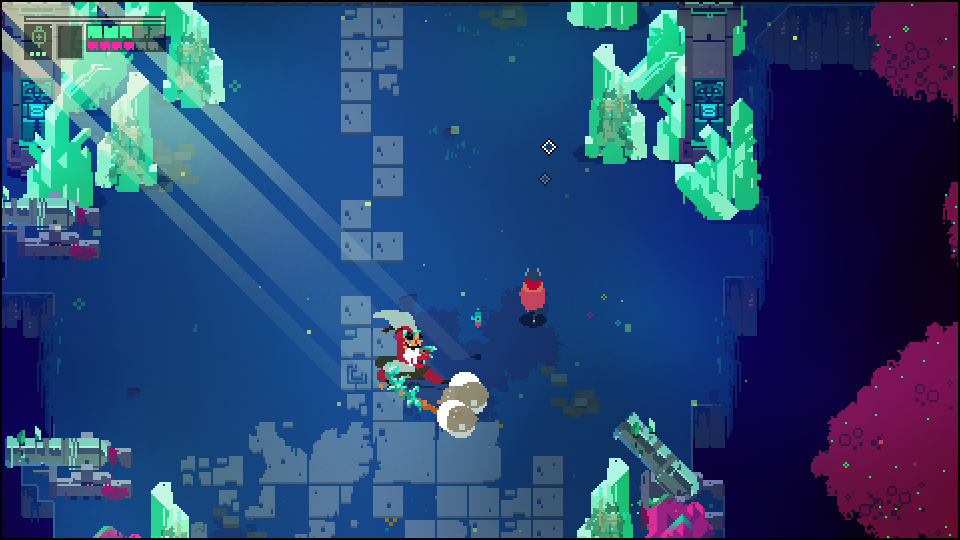hanged_man: (365, 307, 458, 424)
player: (512, 265, 549, 329)
